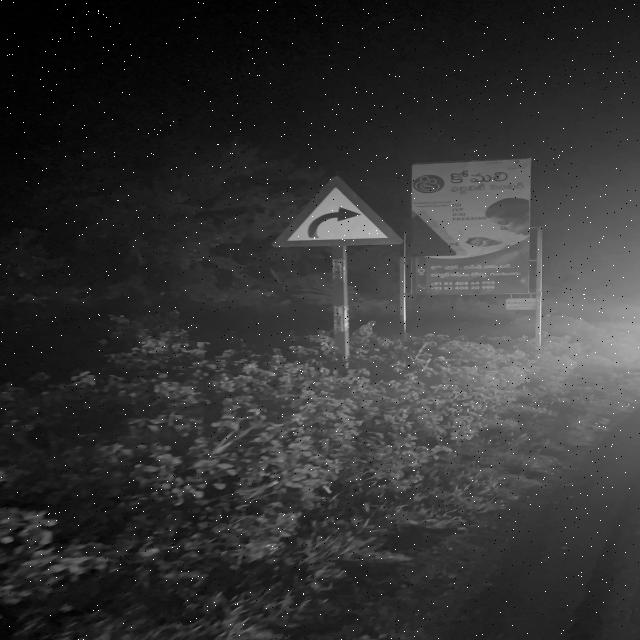Righthand_curve: (257, 177, 422, 251)
